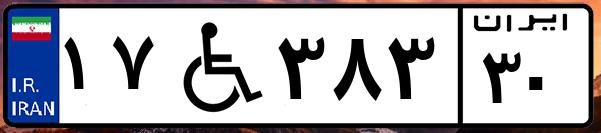0: (525, 38, 570, 115)
1: (57, 26, 110, 100)
3: (270, 28, 330, 110), (385, 28, 445, 110), (475, 38, 525, 113)
7: (110, 28, 158, 98)
8: (330, 28, 385, 110)
ژ (معلولین و جانبازان): (158, 12, 270, 120)
